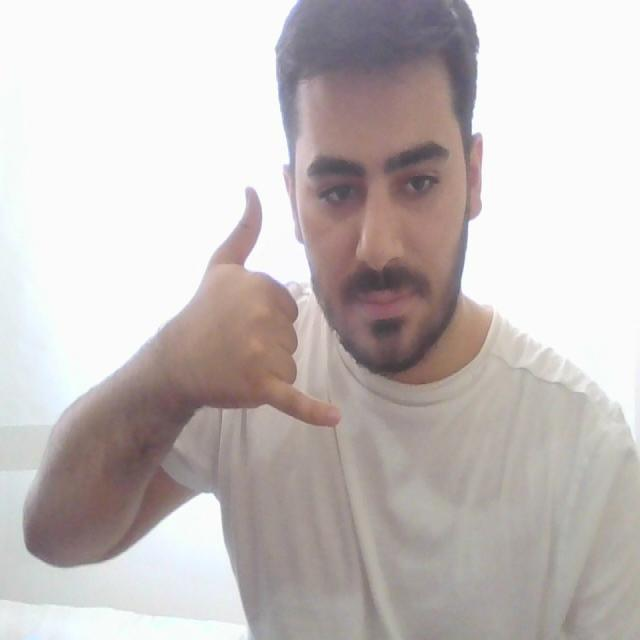Telefon: (218, 174, 357, 442)
